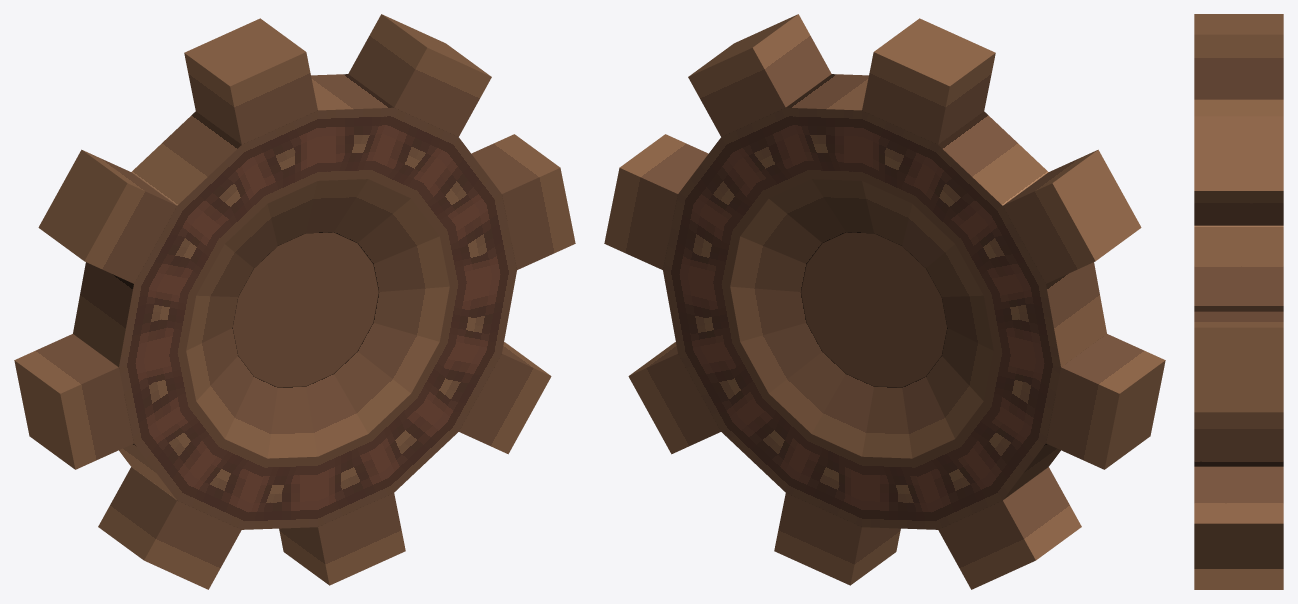
Rendered from cog.glb.
3 views of the same model, side by side, from view 1: azimuth 30°, elevation 25°; view 2: azimuth 150°, elevation 25°; view 3: azimuth 270°, elevation 25° (orthographic). The views are drawn at different scales.
Visible parts, largest first — view 1: cog; view 2: cog; view 3: cog.
Part boxes in pixels (x1,y1,x2,y2): cog: (14,14,575,589); cog: (604,14,1165,589); cog: (1194,14,1283,589).
Size of the model in its own units: 2.59 by 2.59 by 0.4.
Materials: 2 (2 with a texture image).
